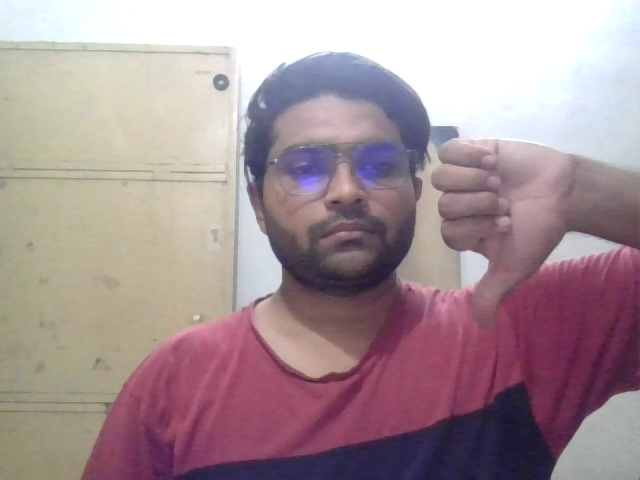ThumbsDown: (429, 134, 565, 336)
